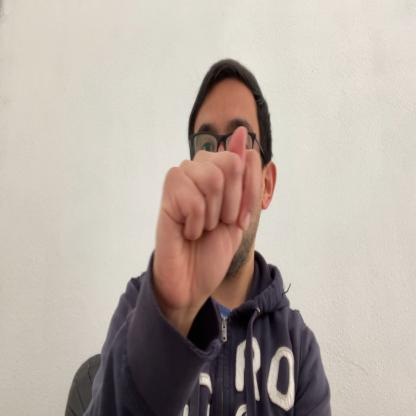T: (154, 123, 262, 314)
